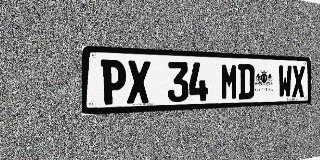3: (168, 62, 188, 102)
4: (189, 62, 208, 101)
D: (238, 64, 254, 100)
M: (221, 63, 238, 100)
P: (101, 59, 126, 105)
W: (278, 65, 292, 98)
X: (127, 60, 150, 104), (292, 65, 305, 97)
